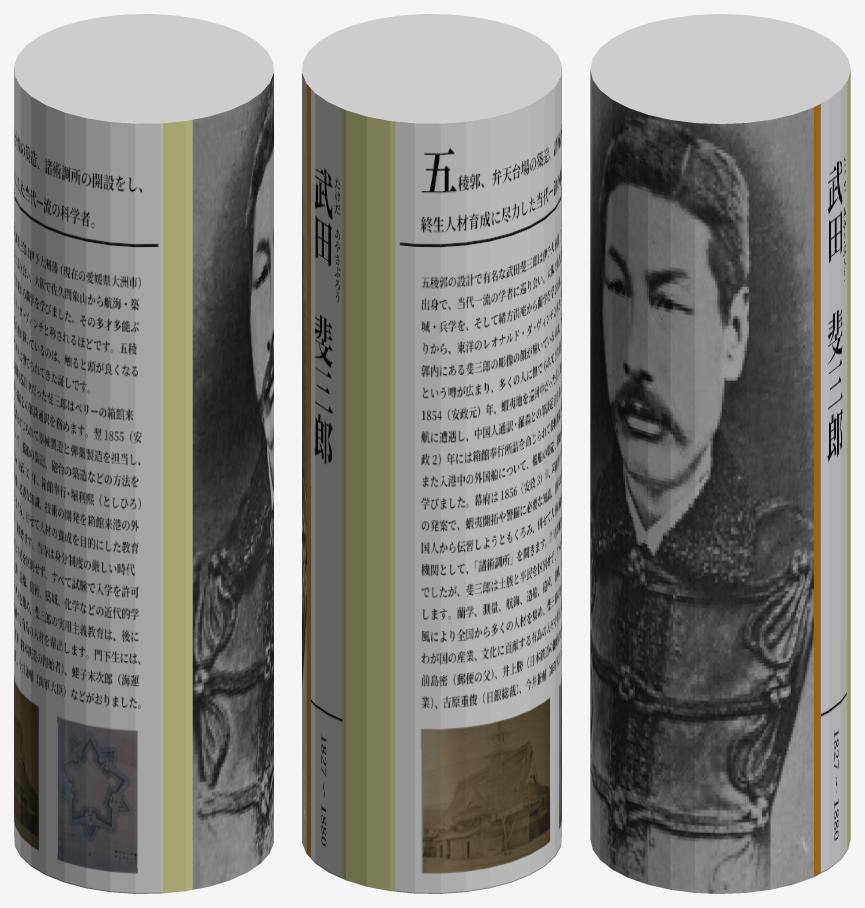
The model's file is シン・リトファスゾイレ斐三郎.glb.
3 renders of one model, left to right at view 1: azimuth 30°, elevation 25°; view 2: azimuth 150°, elevation 25°; view 3: azimuth 270°, elevation 25°, orthographic.
Visible parts, largest first — view 1: 円柱; view 2: 円柱; view 3: 円柱.
Boxes of the visible parts, x1,y1,x2,y2 form: 円柱: (14, 14, 273, 893); 円柱: (302, 14, 561, 893); 円柱: (590, 14, 850, 893).
Bounding box in the file's own units: 2 × 6.52 × 2.
Materials: 2 (1 with a texture image).
